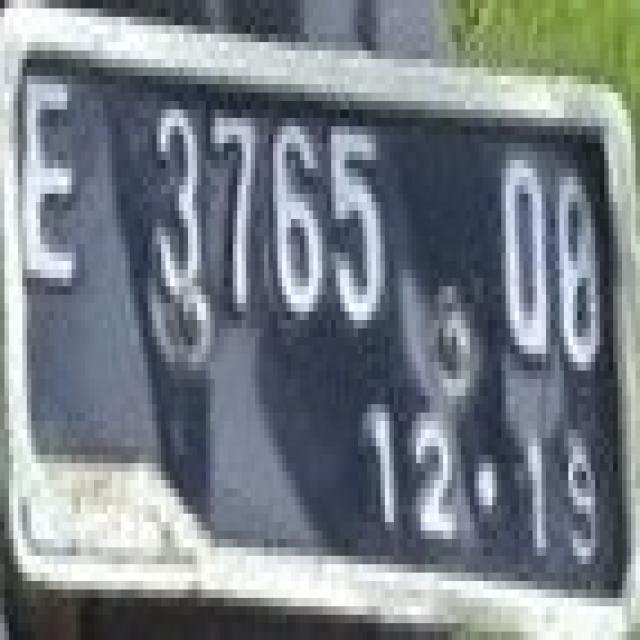plate: (9, 34, 635, 606)
